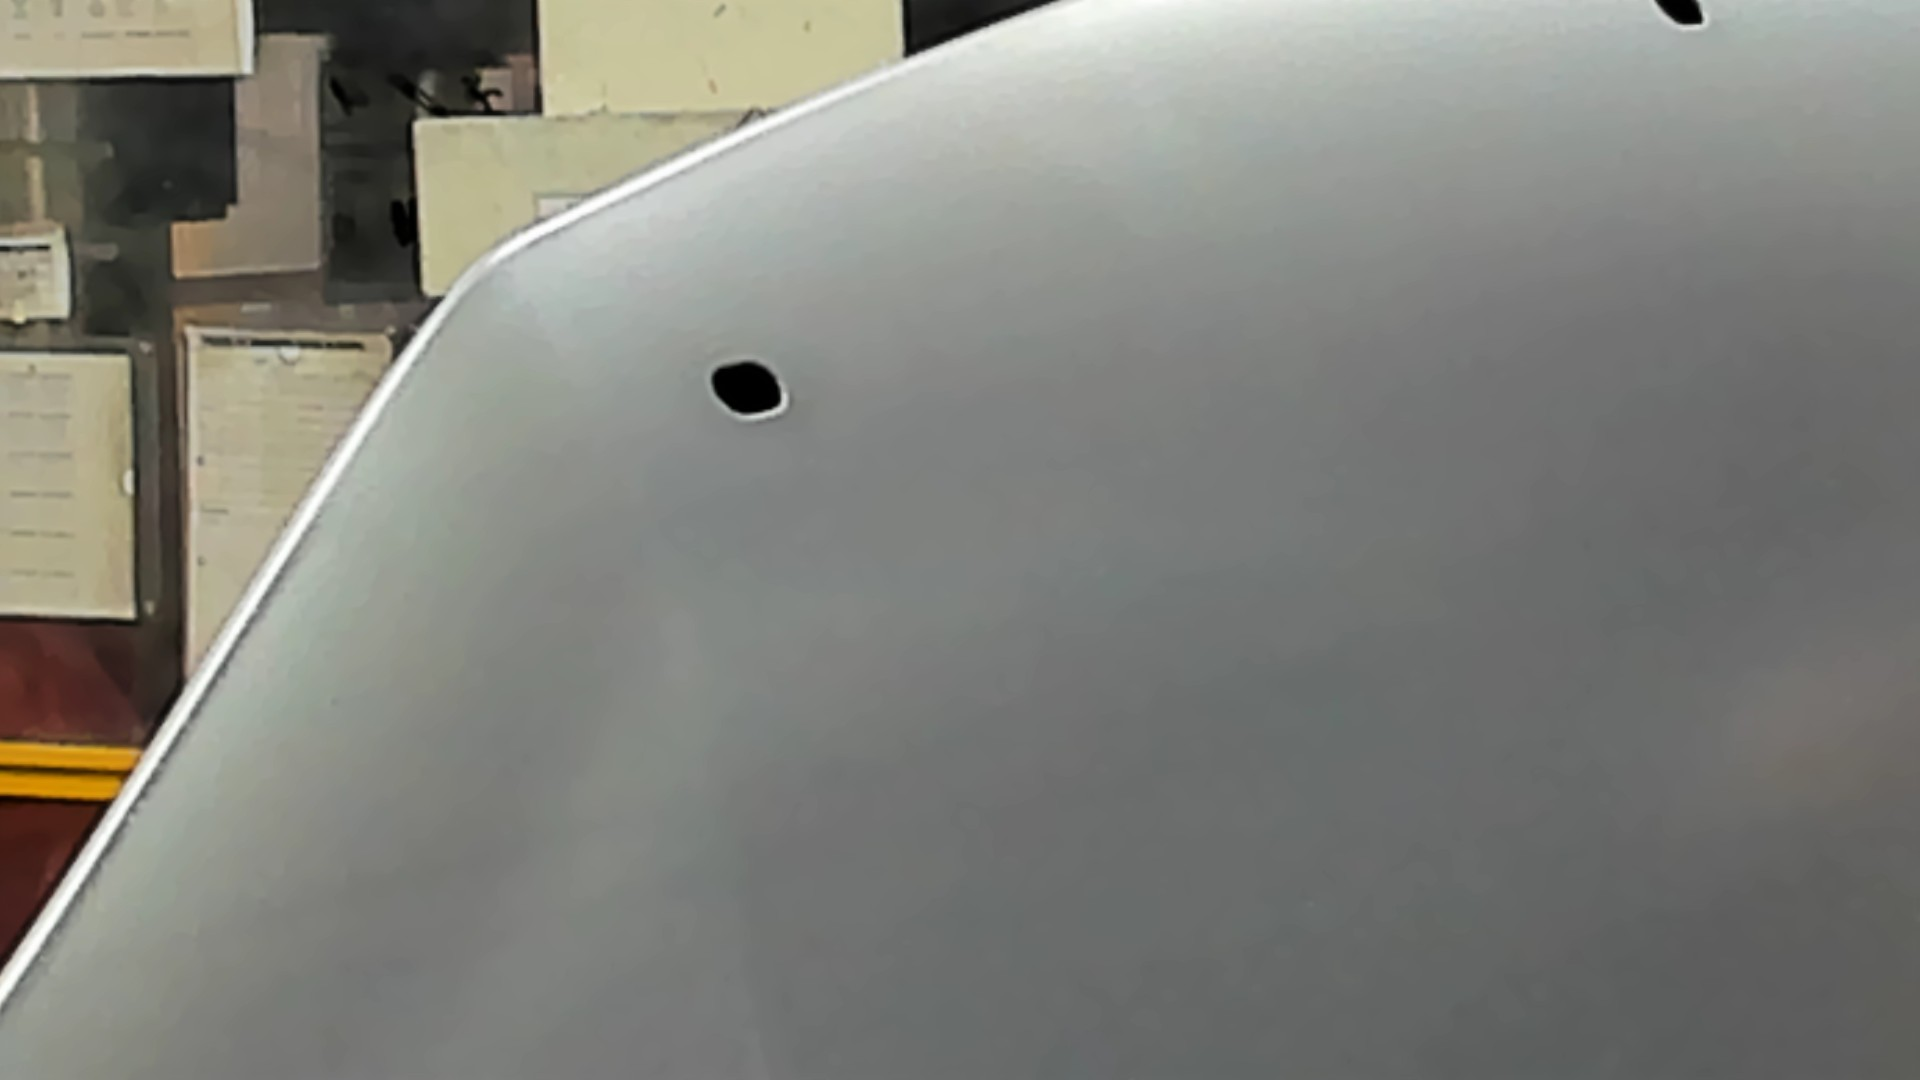amorfo: (698, 355, 793, 425), (1647, 1, 1716, 33)
